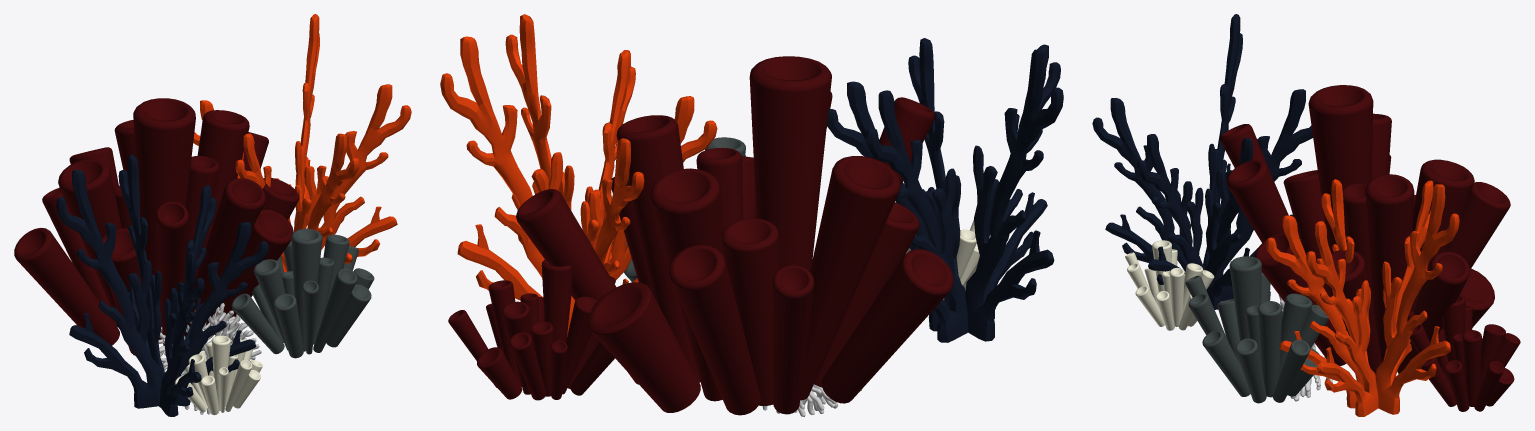
File: coral_5.obj
3 renders of one model, left to right at view 1: azimuth 30°, elevation 25°; view 2: azimuth 150°, elevation 25°; view 3: azimuth 270°, elevation 25°, orthographic. The views are drawn at different scales.
Parts seen in each view (by area): view 1: pCylinder35_ParlakVersiyon_0.001; view 2: pCylinder35_ParlakVersiyon_0.001; view 3: pCylinder35_ParlakVersiyon_0.001.
Boxes of the visible parts, x1,y1,x2,y2 form: pCylinder35_ParlakVersiyon_0.001: [14, 14, 411, 416]; pCylinder35_ParlakVersiyon_0.001: [440, 14, 1063, 416]; pCylinder35_ParlakVersiyon_0.001: [1092, 14, 1520, 416].
Size of the model in its own units: 2.49 by 1.8 by 2.31.
